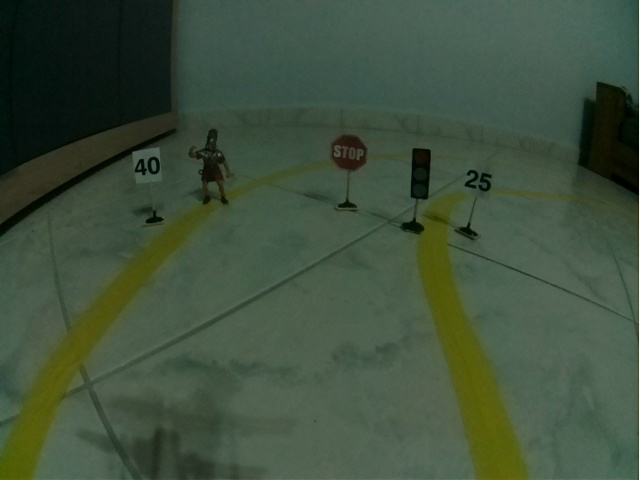Person: (188, 128, 235, 205)
Red Traffic Light: (410, 148, 431, 200)
Speed Limit 25: (463, 159, 496, 200)
Speed Limit 40: (132, 147, 163, 185)
Stop: (330, 134, 368, 172)
